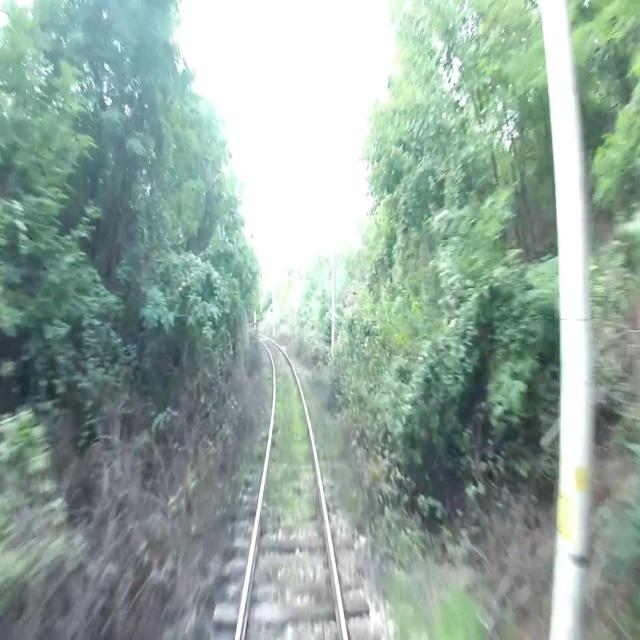rail-track: (240, 339, 343, 639)
